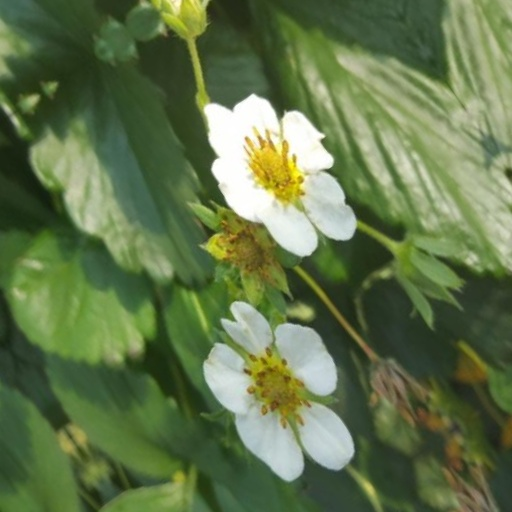Blossom Blight: (297, 144, 352, 251), (167, 330, 226, 427), (223, 203, 277, 288)
